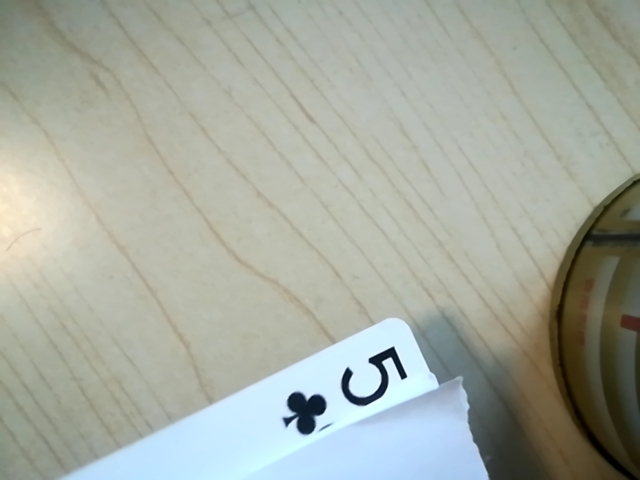mh 5: (279, 340, 429, 434)
